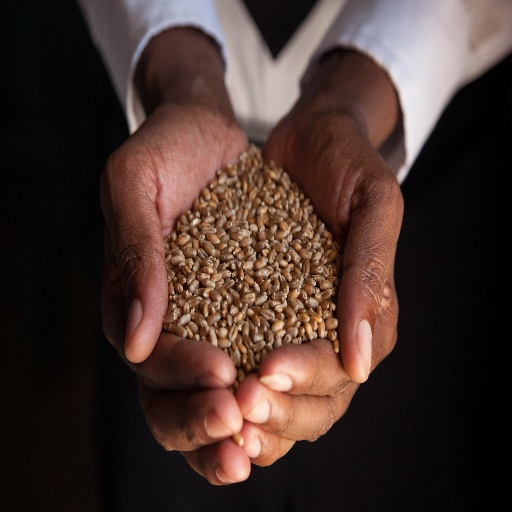hand: (237, 102, 404, 464), (96, 97, 251, 486)
